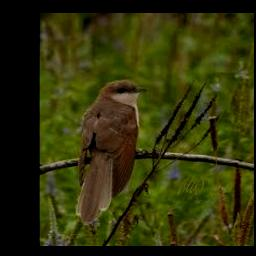Cuckoo: (76, 79, 148, 224)
